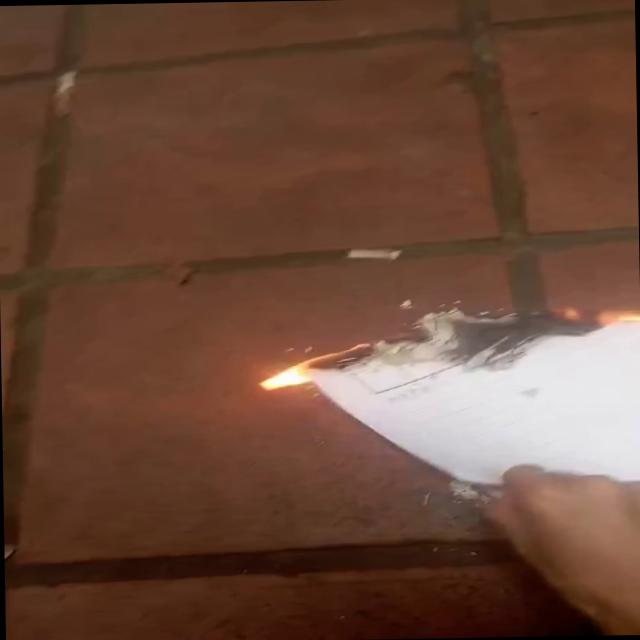Fire_Dangerous: (241, 348, 382, 392), (533, 306, 640, 334)
